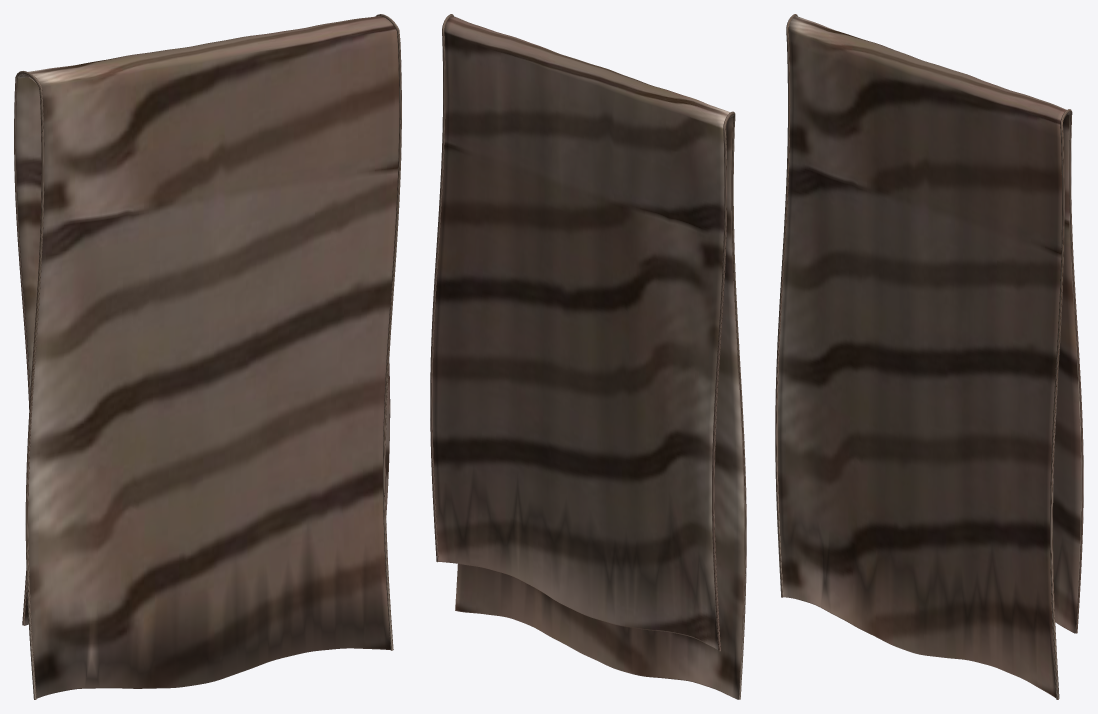
3 views of the same model, side by side, from view 1: azimuth 30°, elevation 25°; view 2: azimuth 150°, elevation 25°; view 3: azimuth 330°, elevation 25° (orthographic). The views are drawn at different scales.
Visible parts, largest first — view 1: body; view 2: body; view 3: body.
Part boxes in pixels (bbox=[...]): body: bbox=[14, 14, 401, 699]; body: bbox=[430, 14, 746, 699]; body: bbox=[775, 14, 1083, 699].
Size of the model in its own units: 0.2163 by 0.3751 by 0.0535.
Materials: 1 (1 with a texture image).
